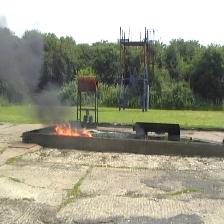fire: (56, 122, 92, 137)
